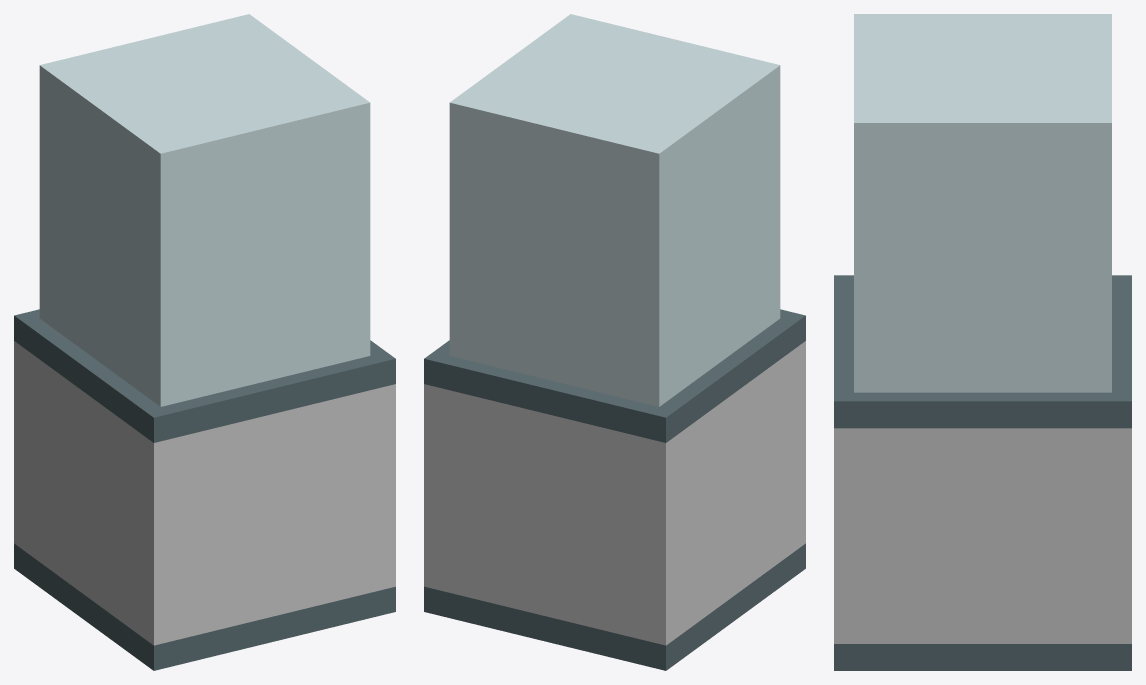
The model's file is scifi_container_glass.fbx.
The picture shows the model from 3 angles, left to right: view 1: azimuth 30°, elevation 25°; view 2: azimuth 150°, elevation 25°; view 3: azimuth 270°, elevation 25°; orthographic projection. The views are drawn at different scales.
Visible parts, largest first — view 1: Cube.047; view 2: Cube.047; view 3: Cube.047.
Part boxes in pixels (x1,y1,x2,y2): Cube.047: [14, 14, 395, 670]; Cube.047: [424, 14, 805, 670]; Cube.047: [834, 14, 1131, 670].
Bounding box in the file's own units: 1 × 2 × 1.
